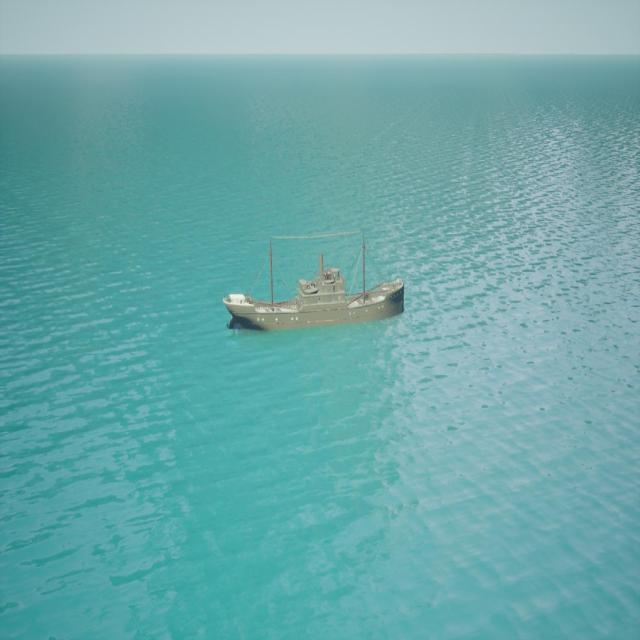fishing ship: (225, 237, 406, 336)
